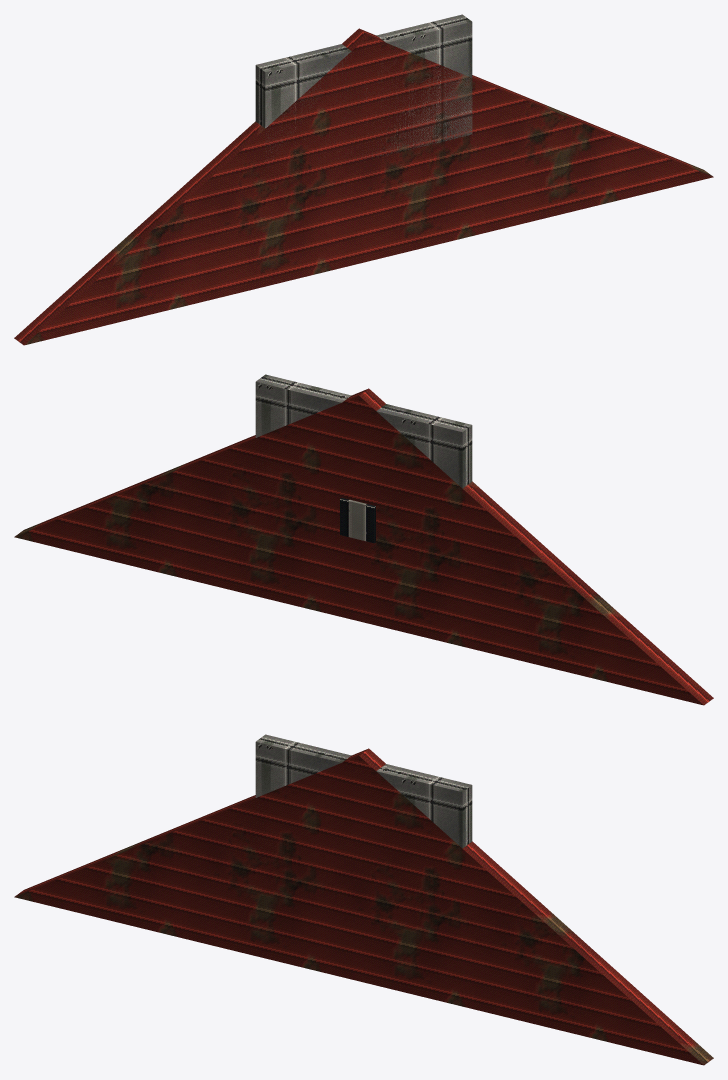
File: gable_siding_red_12.glb
3 views of the same model, one above another, from view 1: azimuth 30°, elevation 25°; view 2: azimuth 150°, elevation 25°; view 3: azimuth 330°, elevation 25° (orthographic).
Visible parts, largest first — view 1: gable_siding_red_12_mesh, gable_siding_red_12_col-colonly.001; view 2: gable_siding_red_12_mesh, gable_siding_red_12_col-colonly.001; view 3: gable_siding_red_12_mesh, gable_siding_red_12_col-colonly.001.
Boxes of the visible parts, x1,y1,x2,y2 form: gable_siding_red_12_mesh: [14, 28, 713, 345]; gable_siding_red_12_col-colonly.001: [255, 14, 472, 165]; gable_siding_red_12_mesh: [14, 388, 713, 705]; gable_siding_red_12_col-colonly.001: [255, 374, 472, 492]; gable_siding_red_12_mesh: [14, 748, 713, 1065]; gable_siding_red_12_col-colonly.001: [255, 734, 472, 848].
Size of what is drawn, in the model's own units: 12 by 3.75 by 0.355.
Materials: 3 (3 with a texture image).
